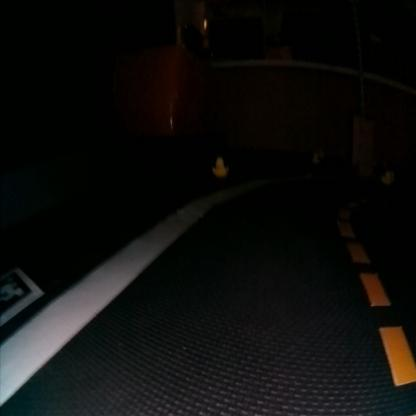Duckie: (213, 158, 228, 177), (382, 170, 392, 183)
QR code: (2, 266, 44, 326)
